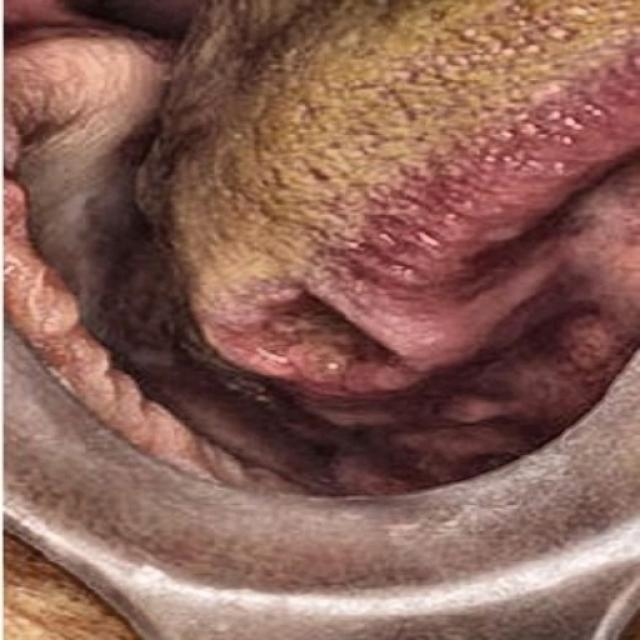cancer-detection: (138, 0, 639, 497)
processing_area: (1, 0, 639, 496)
